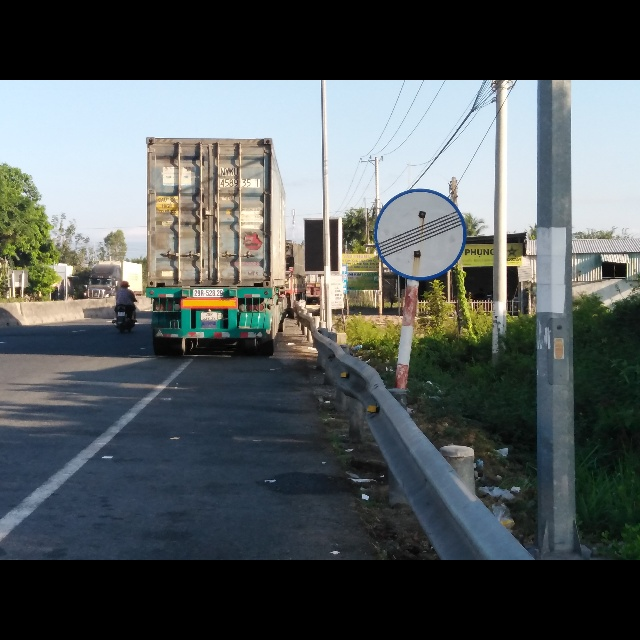Hết tất cả các lệnh cấm: (371, 190, 469, 283)
